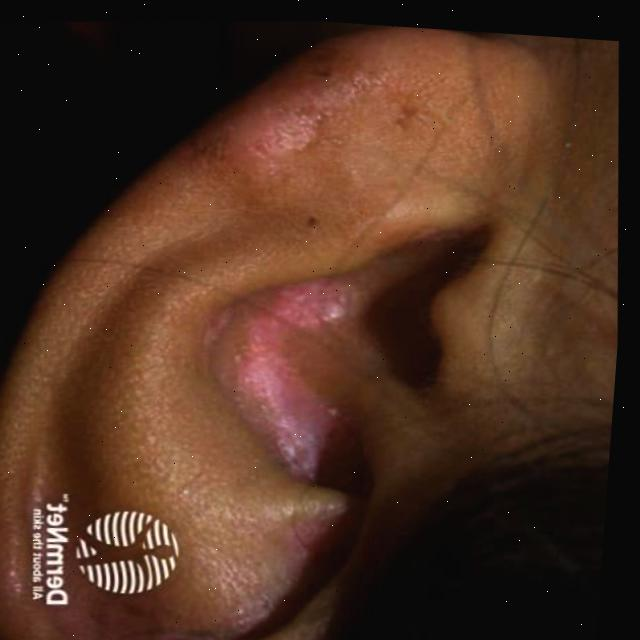lupus-detected: (149, 172, 389, 602), (189, 13, 368, 190)
